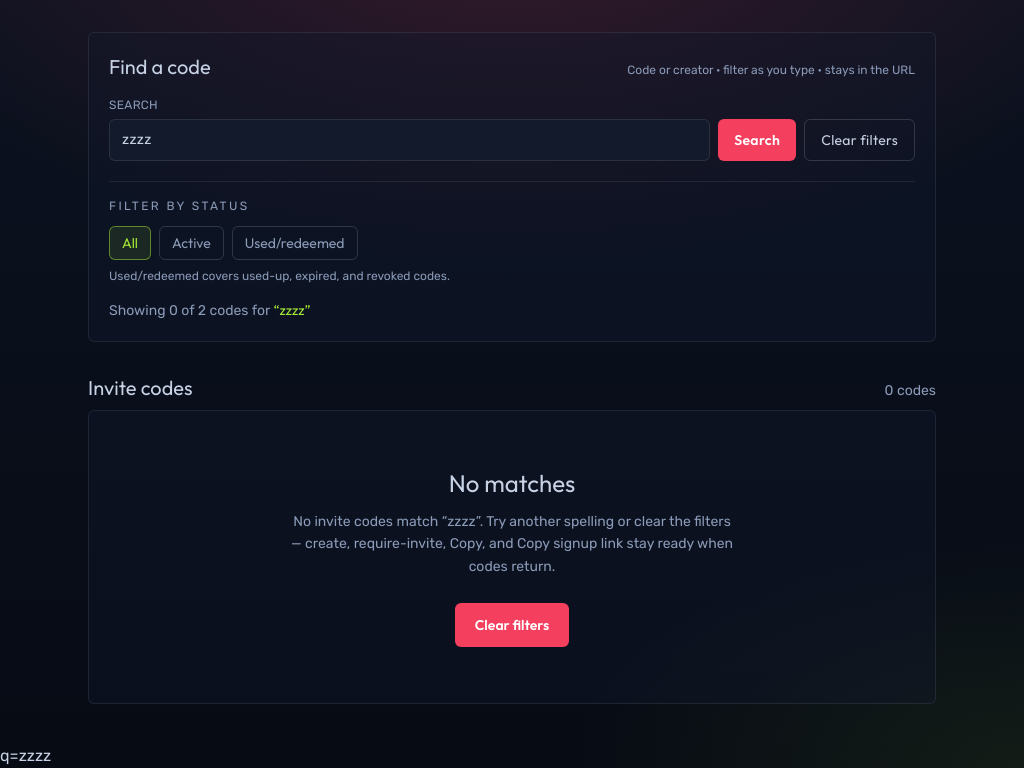
AdminInvitesPage › shows No matches and Clear filters when Find yields none
(page scrolled)
Expected: the text "No matches" is shown, x1=449 y1=468 x2=575 y2=498
Expected: the message named "No matching invite codes" is shown, x1=88 y1=410 x2=936 y2=704
Click the button "Clear filters" below "No invite codes match": (512, 625) x1=455 y1=603 x2=569 y2=647
(page scrolled)
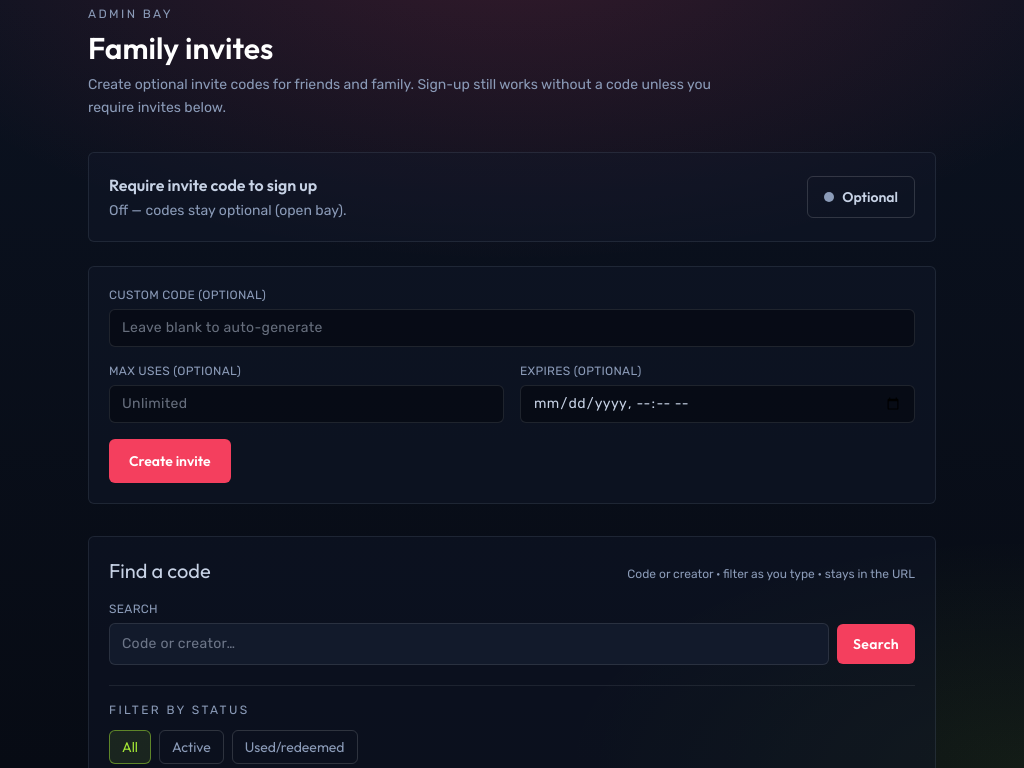
Expected: the form named "Create invite code" is shown, x1=88 y1=266 x2=936 y2=504
Expected: the text "No matches" is gone
